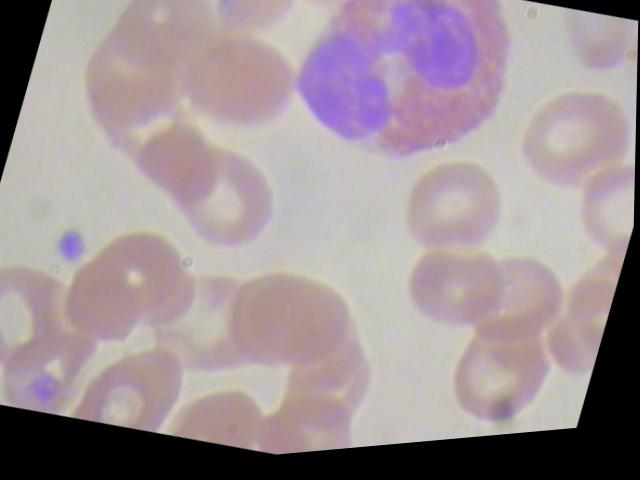Platelets: (45, 217, 101, 275)
Red Blood Cells: (165, 19, 313, 160), (216, 257, 363, 398), (156, 135, 291, 272), (387, 150, 522, 287), (432, 317, 568, 448), (507, 82, 637, 219), (391, 238, 515, 356), (77, 328, 200, 445), (0, 252, 87, 389)
White Blood Cells: (271, 0, 542, 214)
